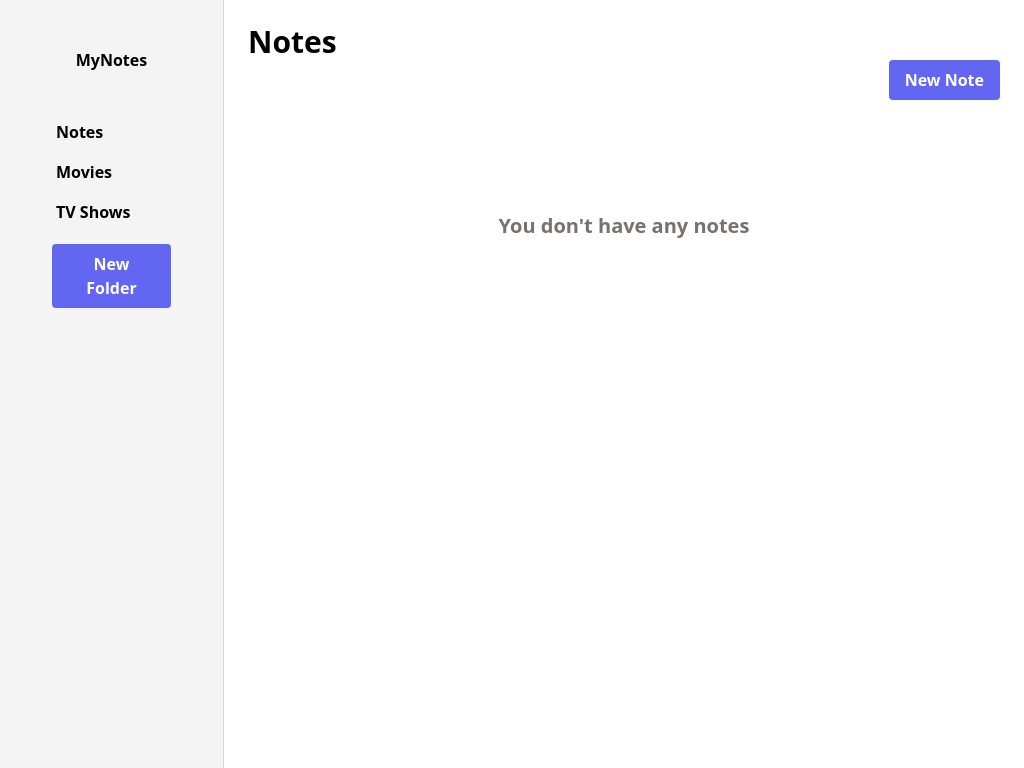
Test: should show the notes by folder, when it is clicked
Click the link "TV Shows" at (93, 212), box [56, 201, 130, 223]
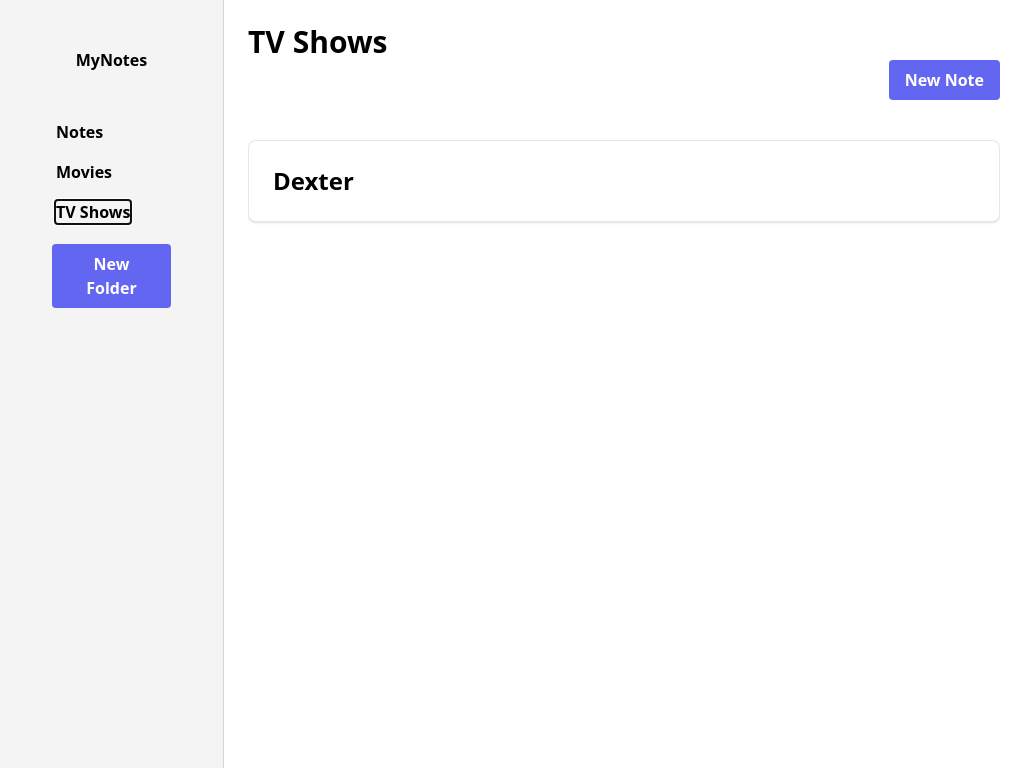
Now the heading "Dexter" is shown, box [273, 164, 354, 197]
